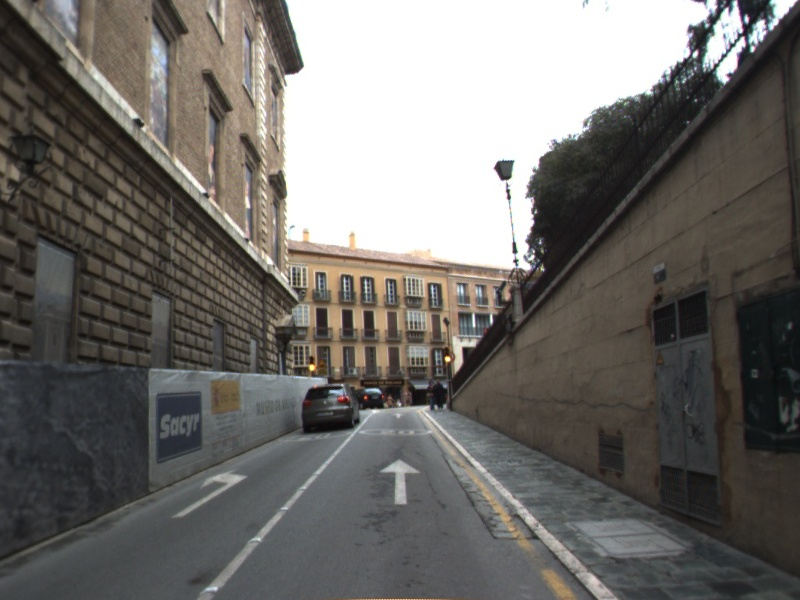LEFT: (169, 467, 250, 520)
STRAIGHT: (377, 457, 423, 506), (391, 411, 407, 420)
